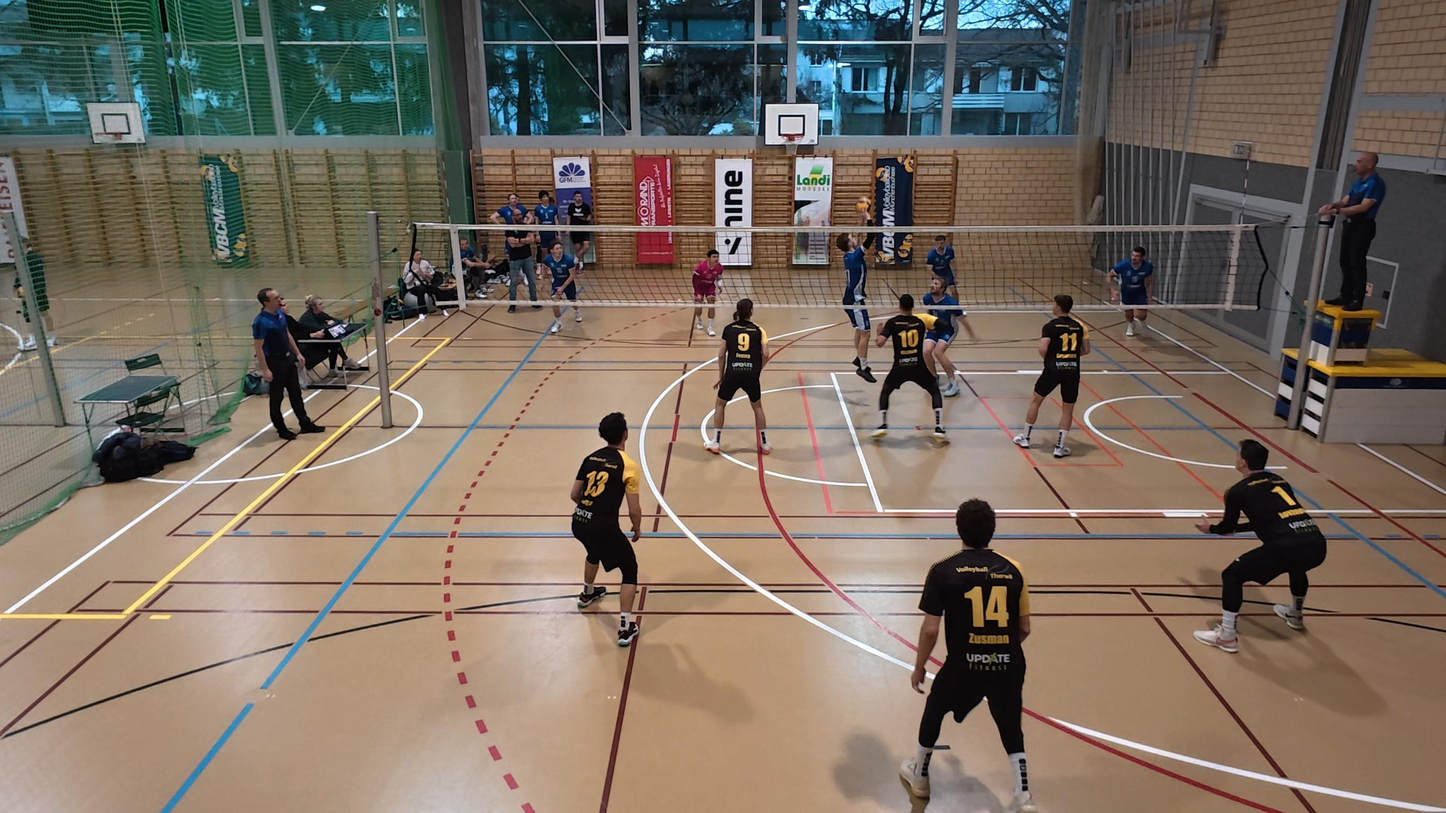Player: (901, 499, 1033, 812), (1196, 438, 1328, 650), (570, 413, 646, 647), (1015, 293, 1090, 457), (869, 294, 949, 445), (703, 297, 770, 454), (925, 278, 975, 396), (1107, 245, 1154, 338), (542, 241, 583, 335), (687, 248, 725, 338), (924, 234, 959, 299)
Set: (828, 216, 882, 385)
ball: (858, 196, 873, 212)
